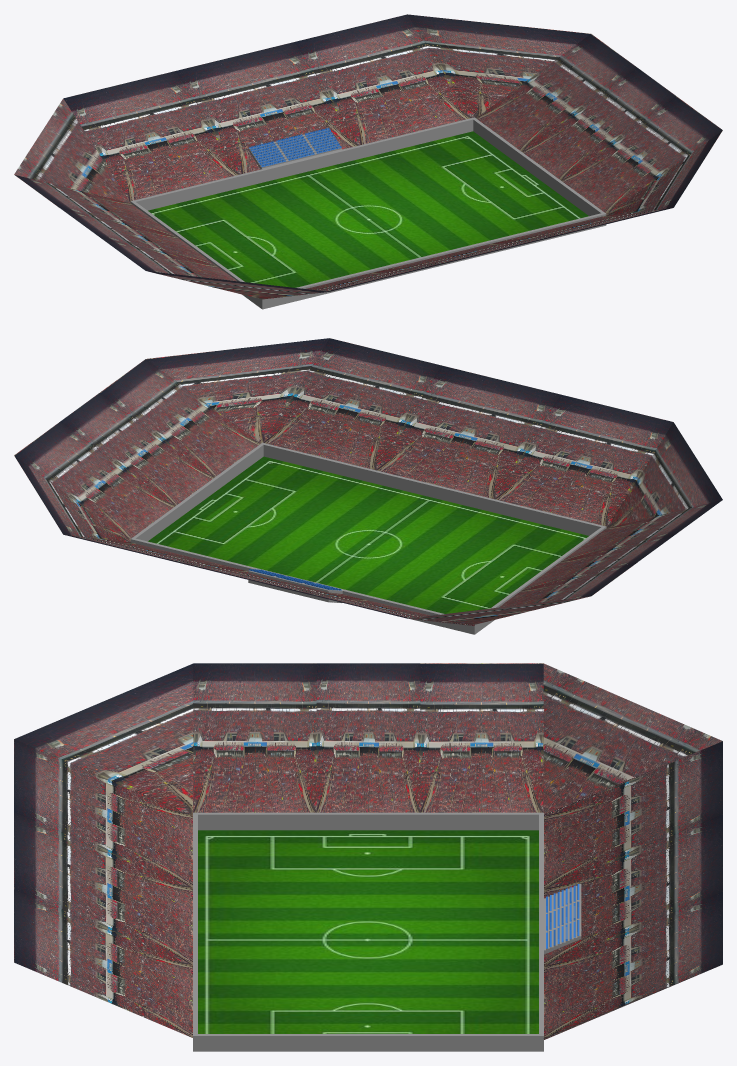
File: スタジアムテクスチャ貼り付けAI生成画像スケール整え.fbx
3 renders of one model, top to bottom at view 1: azimuth 30°, elevation 25°; view 2: azimuth 150°, elevation 25°; view 3: azimuth 270°, elevation 25°, orthographic. The views are drawn at different scales.
Visible parts, largest first — view 1: 平面, 平面.012, 平面.015, 平面.010, 平面.011, 平面.007, 平面.014, 立方体.003, 平面.013, 平面.002, 平面.004, 立方体.002 (+7 smaller); view 2: 平面, 平面.003, 平面.009, 平面.001, 平面.012, 平面.002, 平面.011, 平面.007, 平面.006, 立方体.002, 平面.005, 平面.004 (+8 smaller); view 3: 平面, 平面.005, 平面.013, 平面.004, 平面.014, 平面.003, 平面.006, 平面.012, 平面.015, 平面.009, 平面.001, 平面.010 (+4 smaller).
Part boxes in pixels (left/top/right/bottom): 平面: left=148, top=131, right=588, bottom=287; 平面.012: left=295, top=14, right=637, bottom=151; 平面.015: left=63, top=71, right=240, bottom=202; 平面.010: left=176, top=42, right=359, bottom=174; 平面.011: left=561, top=96, right=722, bottom=215; 平面.007: left=522, top=68, right=676, bottom=180; 平面.014: left=14, top=98, right=129, bottom=202; 立方体.003: left=130, top=117, right=474, bottom=210; 平面.013: left=15, top=175, right=175, bottom=236; 平面.002: left=607, top=130, right=722, bottom=215; 平面.004: left=61, top=208, right=215, bottom=265; 立方体.002: left=260, top=213, right=606, bottom=309; 平面: left=148, top=456, right=588, bottom=613; 平面.003: left=376, top=365, right=560, bottom=499; 平面.009: left=263, top=338, right=441, bottom=470; 平面.001: left=495, top=394, right=673, bottom=526; 平面.012: left=14, top=421, right=241, bottom=569; 平面.002: left=146, top=338, right=329, bottom=443; 平面.011: left=100, top=359, right=260, bottom=477; 平面.007: left=60, top=393, right=214, bottom=505; 平面.006: left=606, top=422, right=722, bottom=527; 立方体.002: left=262, top=442, right=606, bottom=535; 平面.005: left=561, top=500, right=722, bottom=561; 平面.004: left=521, top=534, right=675, bottom=590; 平面: left=198, top=830, right=538, bottom=1033; 平面.005: left=193, top=663, right=316, bottom=812; 平面.013: left=420, top=663, right=543, bottom=812; 平面.004: left=316, top=663, right=420, bottom=812; 平面.014: left=543, top=663, right=722, bottom=816; 平面.003: left=14, top=812, right=192, bottom=964; 平面.006: left=14, top=663, right=193, bottom=814; 平面.012: left=543, top=891, right=722, bottom=1039; 平面.015: left=544, top=741, right=722, bottom=889; 平面.009: left=14, top=889, right=192, bottom=1037; 平面.001: left=14, top=739, right=192, bottom=887; 平面.010: left=544, top=814, right=722, bottom=966.
Size of the model in its own units: 359 by 39.8 by 287.
